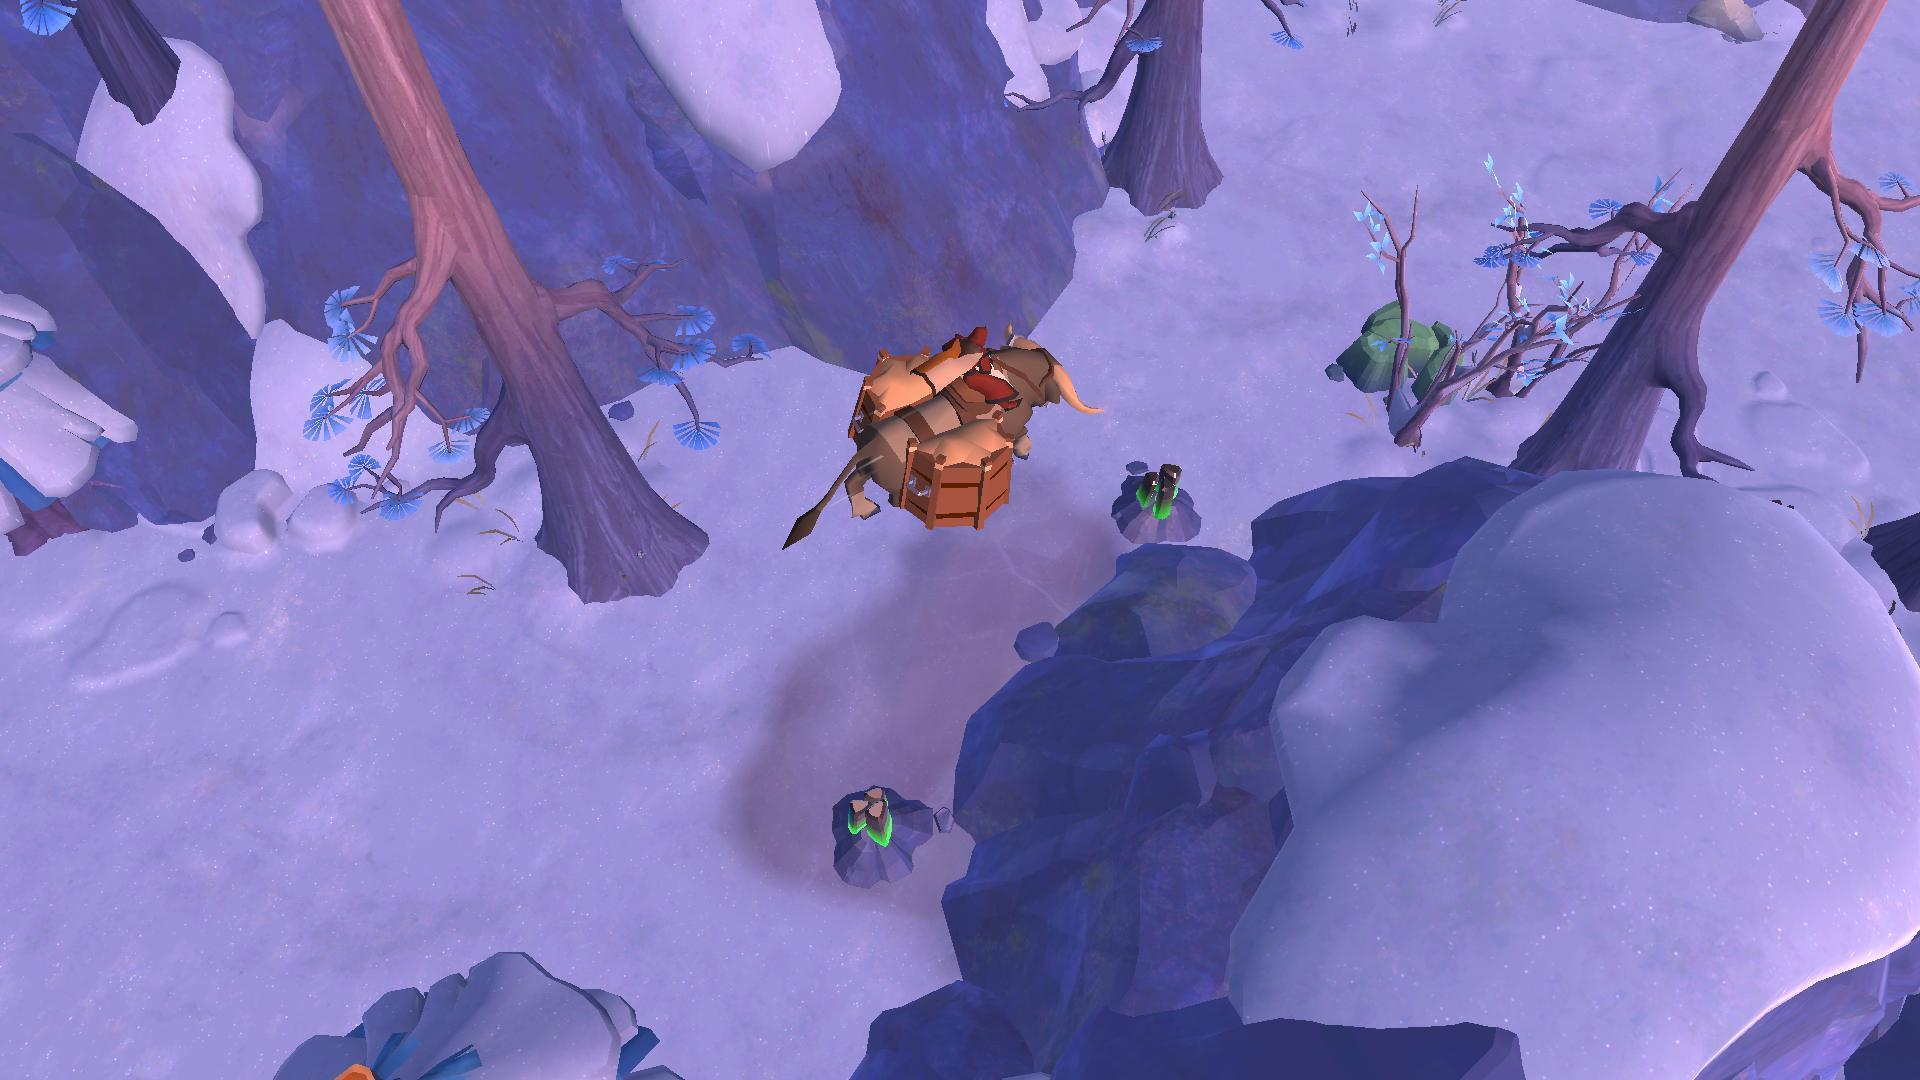ore_t3: (839, 781, 894, 847), (1130, 459, 1185, 522)
rock_t3: (1327, 297, 1460, 398)
